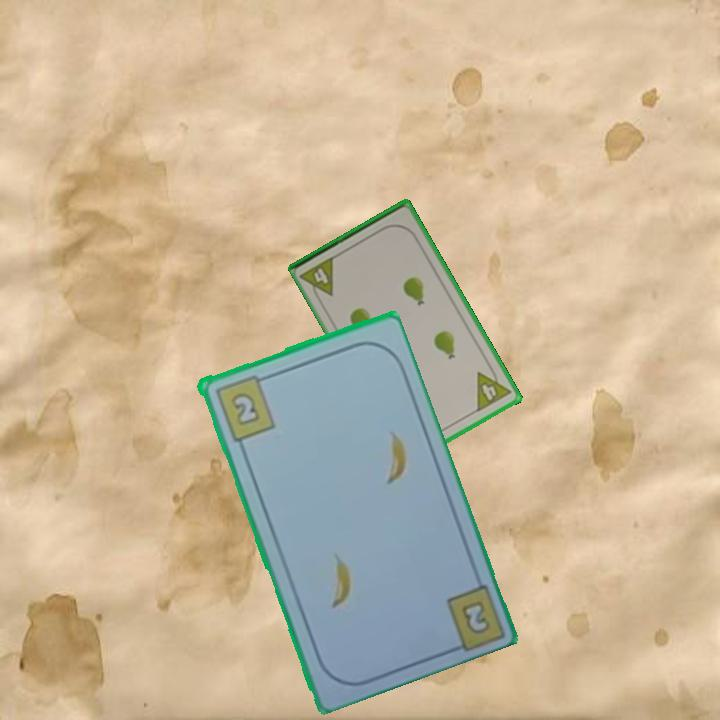2b: (211, 371, 278, 444), (457, 597, 493, 637)
4p: (473, 362, 514, 415), (297, 252, 338, 304)
